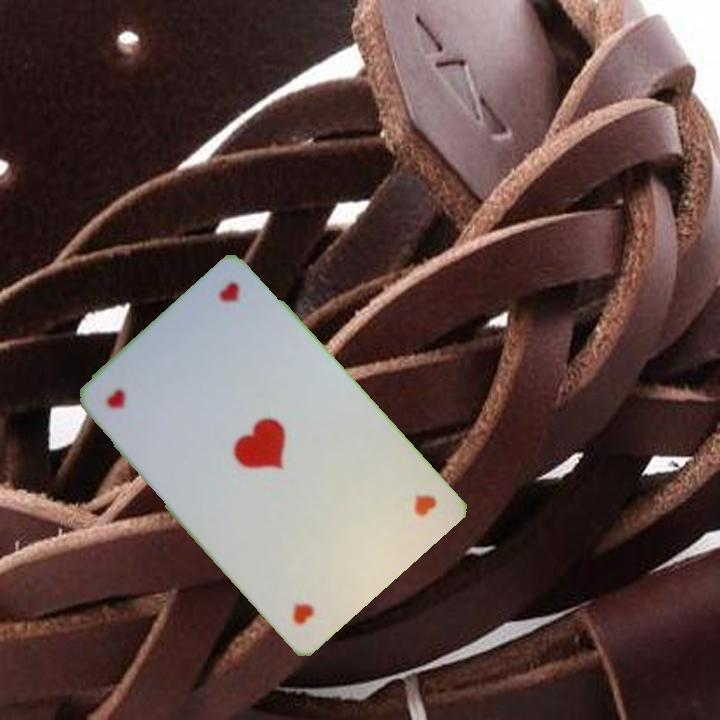h_a.png: (318, 446, 448, 575), (91, 334, 220, 462)
